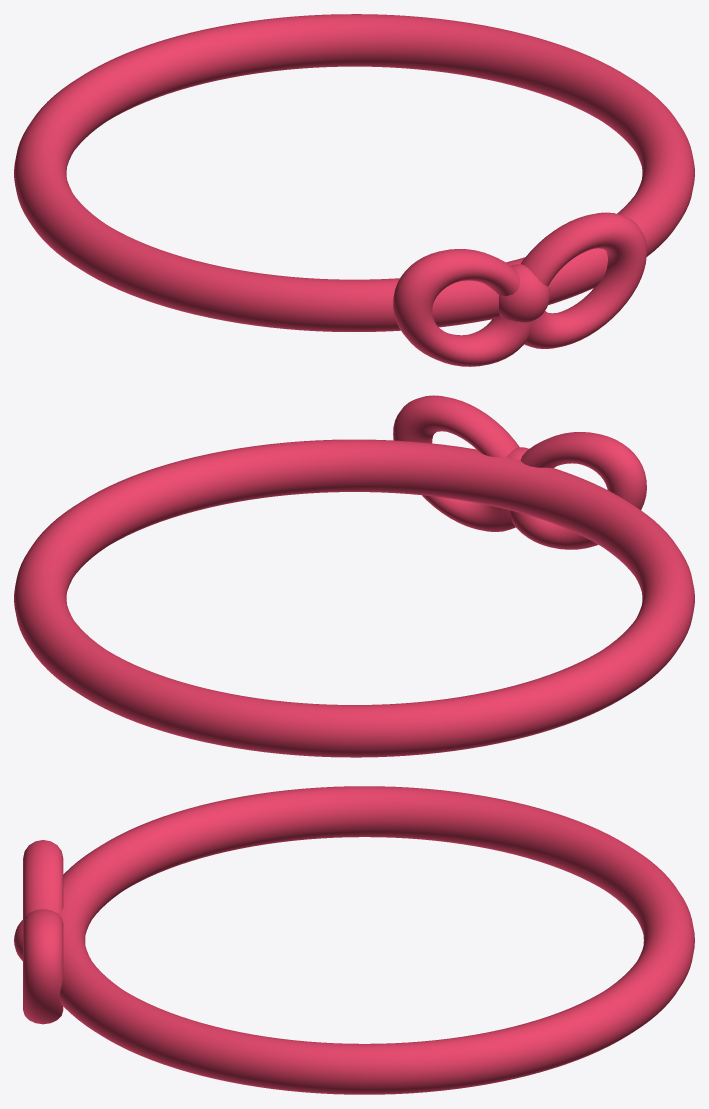
The model's file is jar_ribbon.glb.
The picture shows the model from 3 angles, top to bottom: view 1: azimuth 30°, elevation 25°; view 2: azimuth 150°, elevation 25°; view 3: azimuth 270°, elevation 25°; orthographic projection. The views are drawn at different scales.
Visible parts, largest first — view 1: band, loop_2, loop_1, knot; view 2: band, loop_2, loop_1; view 3: band, loop_2, loop_1.
Boxes of the visible parts, x1,y1,x2,y2 form: band: [14, 14, 694, 331]; loop_2: [521, 212, 646, 348]; loop_1: [393, 249, 529, 366]; knot: [498, 264, 549, 322]; band: [14, 439, 694, 757]; loop_2: [393, 395, 519, 531]; loop_1: [510, 432, 646, 549]; band: [58, 786, 694, 1094]; loop_2: [23, 909, 63, 1024]; loop_1: [23, 840, 63, 918].
Bounding box in the file's own units: 1.81 × 0.3506 × 1.86.
